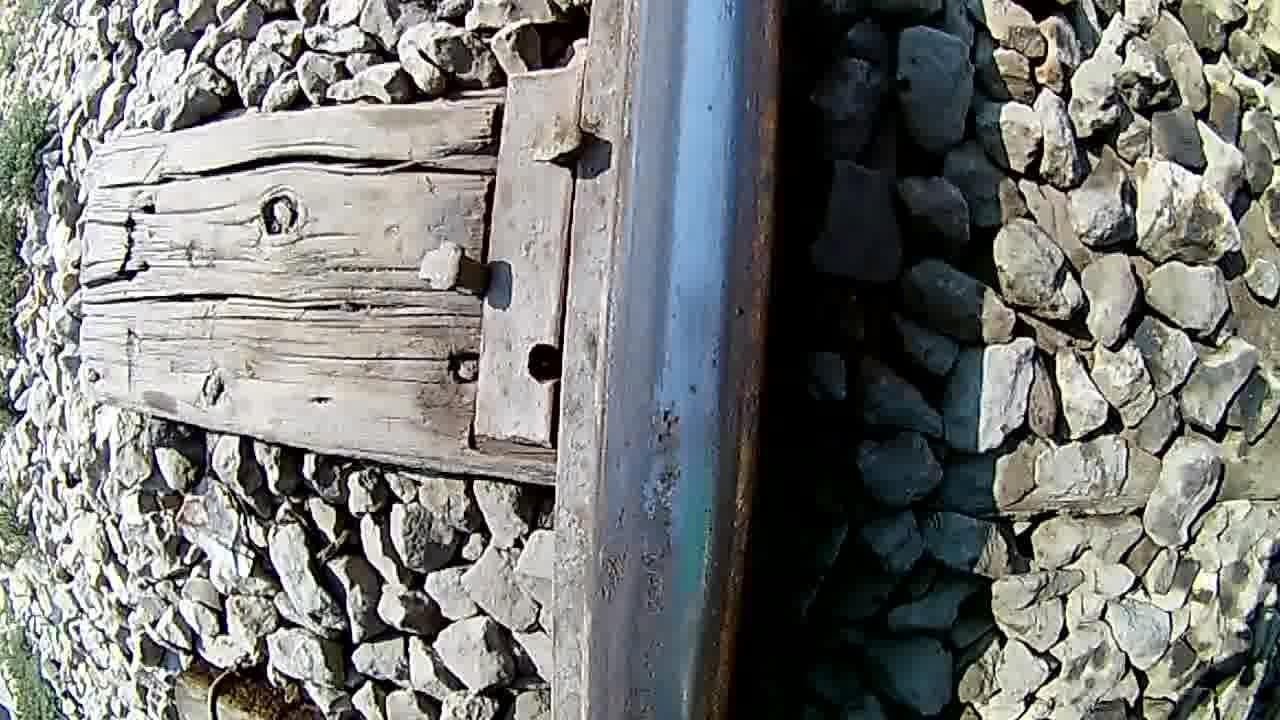crack: (588, 19, 782, 720)
